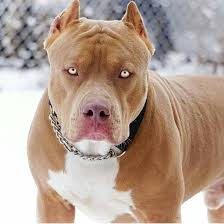Perro Pitbull: (26, 2, 185, 224)
